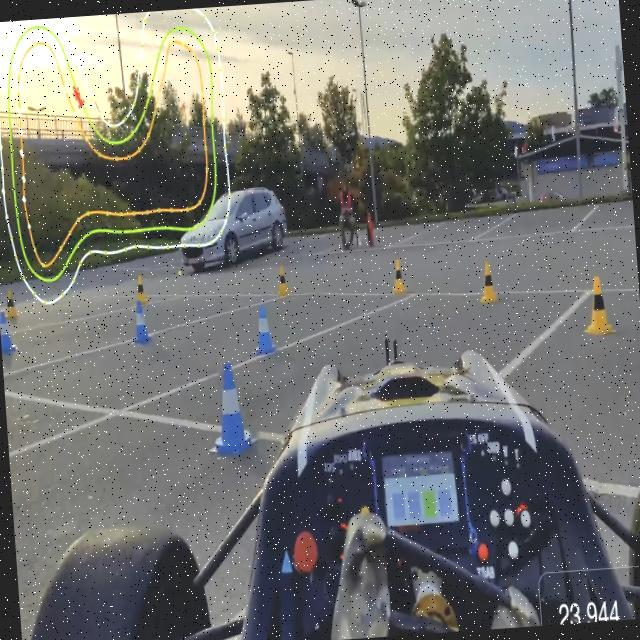blue_cone: (206, 355, 258, 459), (250, 303, 279, 356), (130, 300, 151, 345), (0, 310, 14, 355)
yellow_cone: (582, 272, 613, 336), (479, 258, 498, 303), (388, 256, 408, 295), (4, 286, 20, 322), (275, 263, 290, 298), (134, 274, 147, 300)
